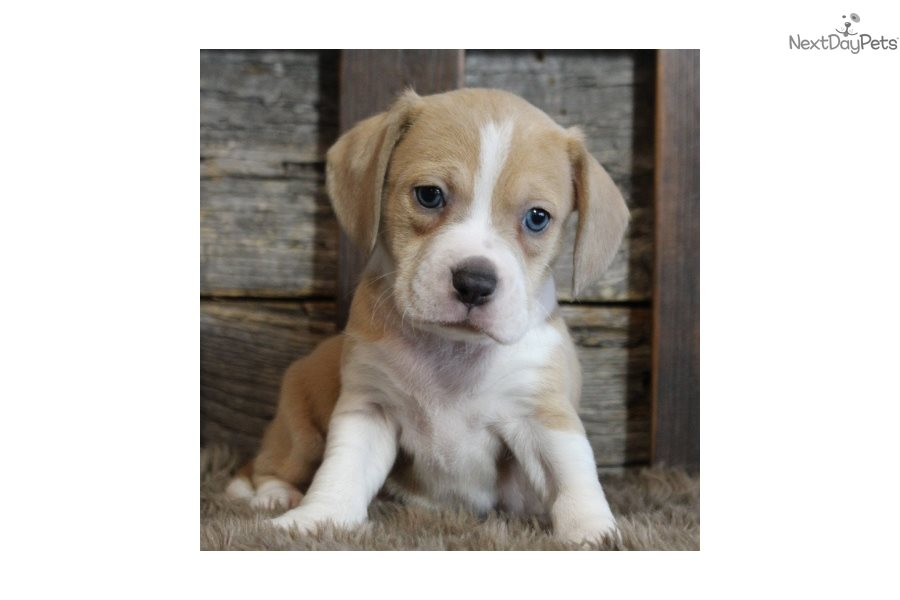dog: (231, 90, 642, 525)
